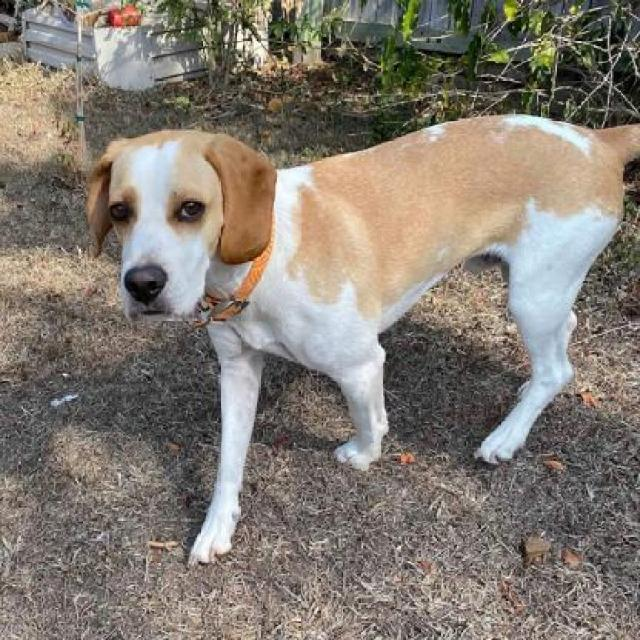Dog: (81, 112, 638, 572)
